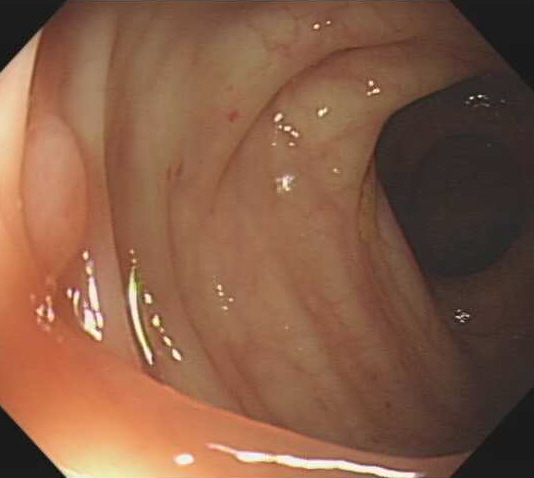adenoma: (19, 114, 91, 290)
